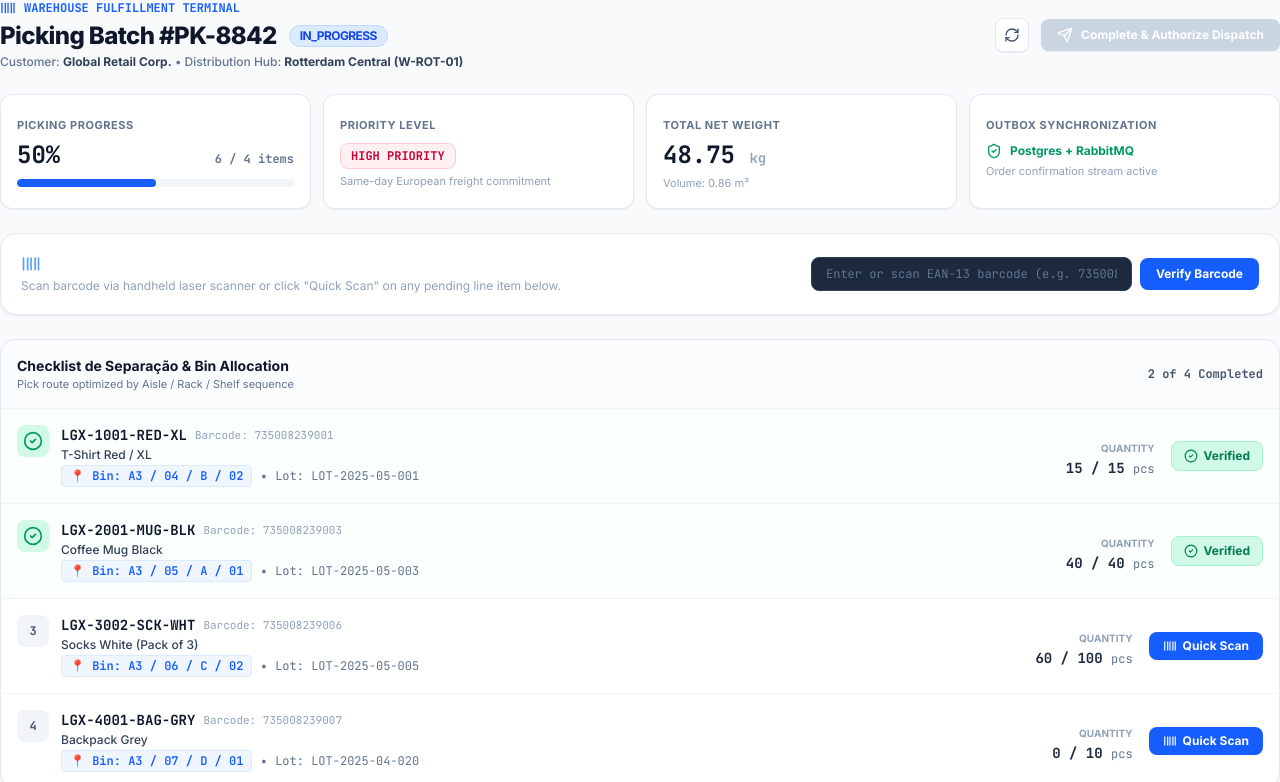
PickingTerminal Component › should show scan error when invalid barcode is submitted
The width and height of the screenshot is (1280, 782).
Type "9999999999999" into the field with placeholder "Enter or scan EAN-13 barcode (e.g. 735008239006)...".
click(972, 274); type("9999999999999")  # box [811,256,1132,290]
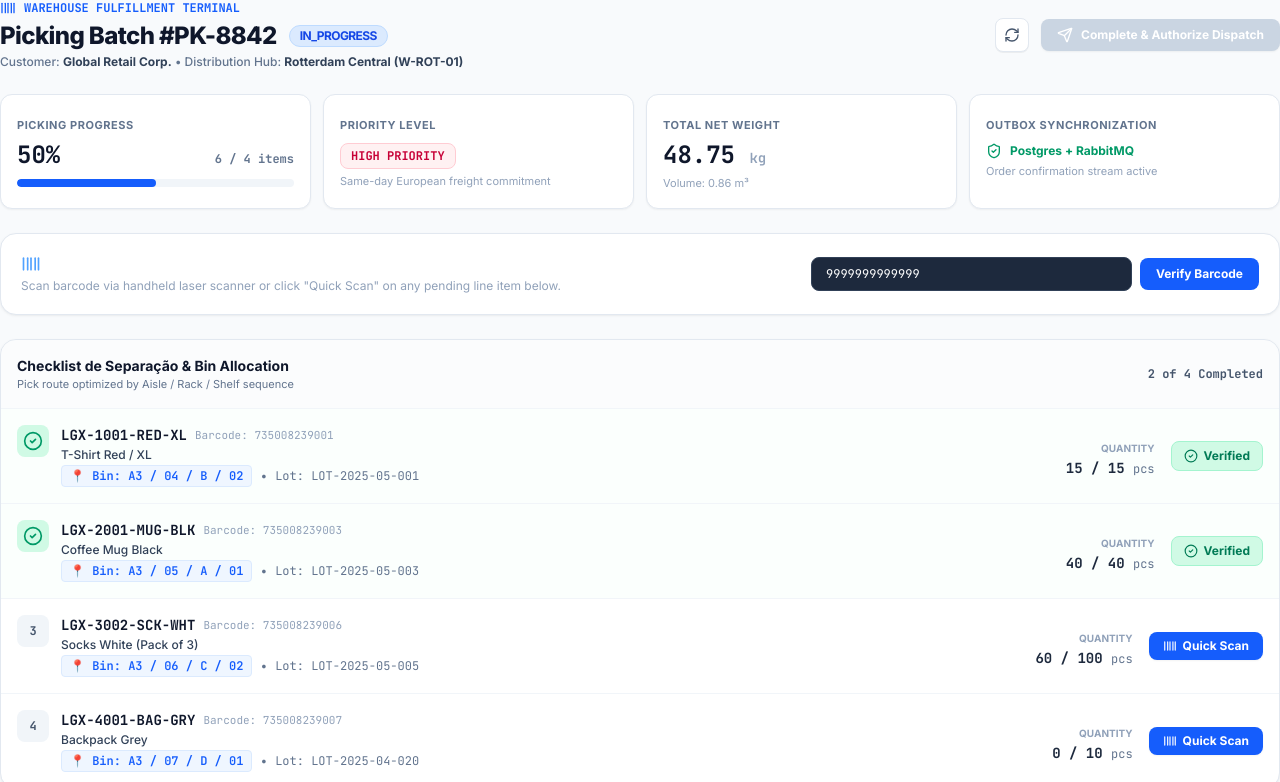
Submit the form with placeholder "Enter or scan EAN-13 barcode", box [811,256,1259,290]
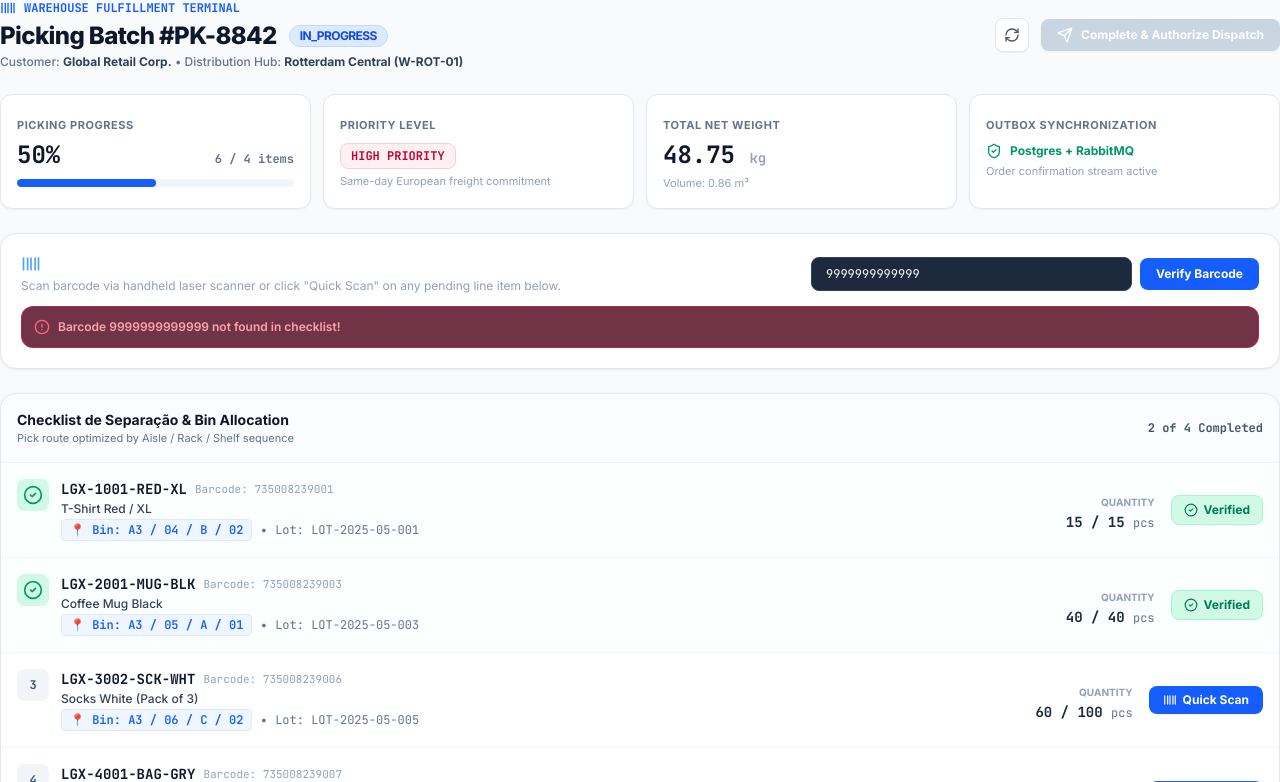
Expected: the text "Barcode 9999999999999 not found in checklist!" is shown, [58,318,340,334]
